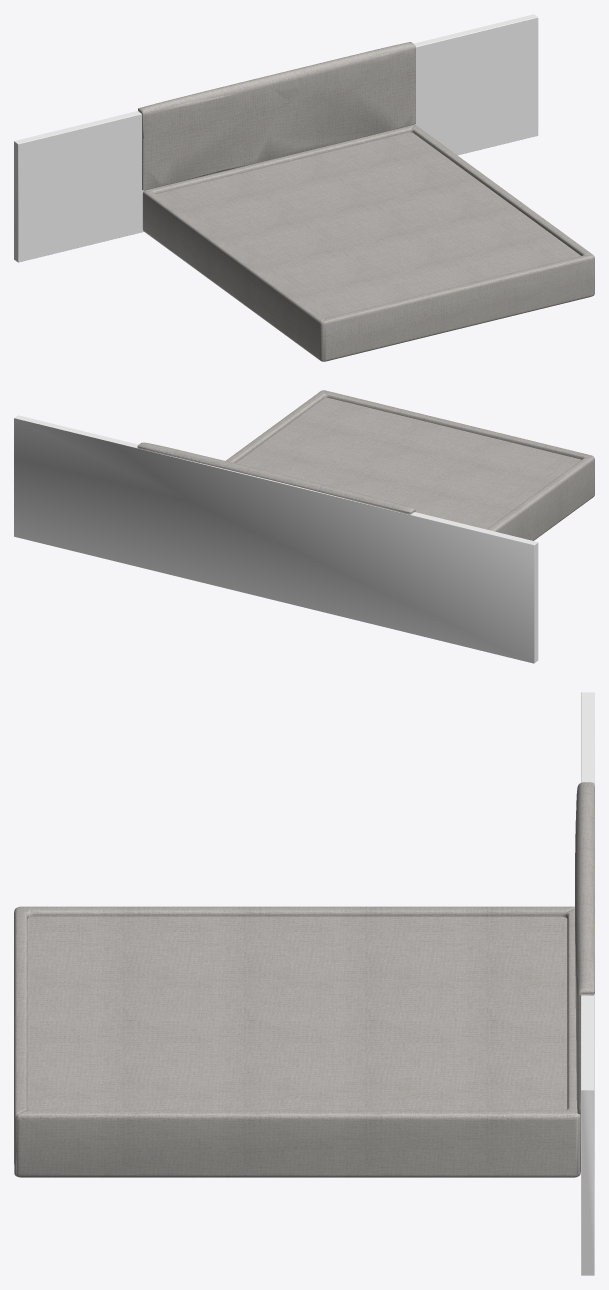
Rendered from Bed furniture.FBX.
The picture shows the model from 3 angles, top to bottom: view 1: azimuth 30°, elevation 25°; view 2: azimuth 150°, elevation 25°; view 3: azimuth 270°, elevation 25°; orthographic projection. The views are drawn at different scales.
Visible parts, largest first — view 1: bed furniture; view 2: bed furniture; view 3: bed furniture.
Part boxes in pixels (<box>): bed furniture: <box>14,14,594,361</box>; bed furniture: <box>14,390,594,663</box>; bed furniture: <box>14,692,594,1275</box>.
Bounding box in the file's own units: 304 × 69.73 × 188.
Materials: 2 (1 with a texture image).
